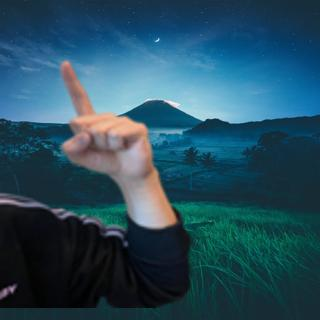IRRITATED: (54, 58, 156, 181)
